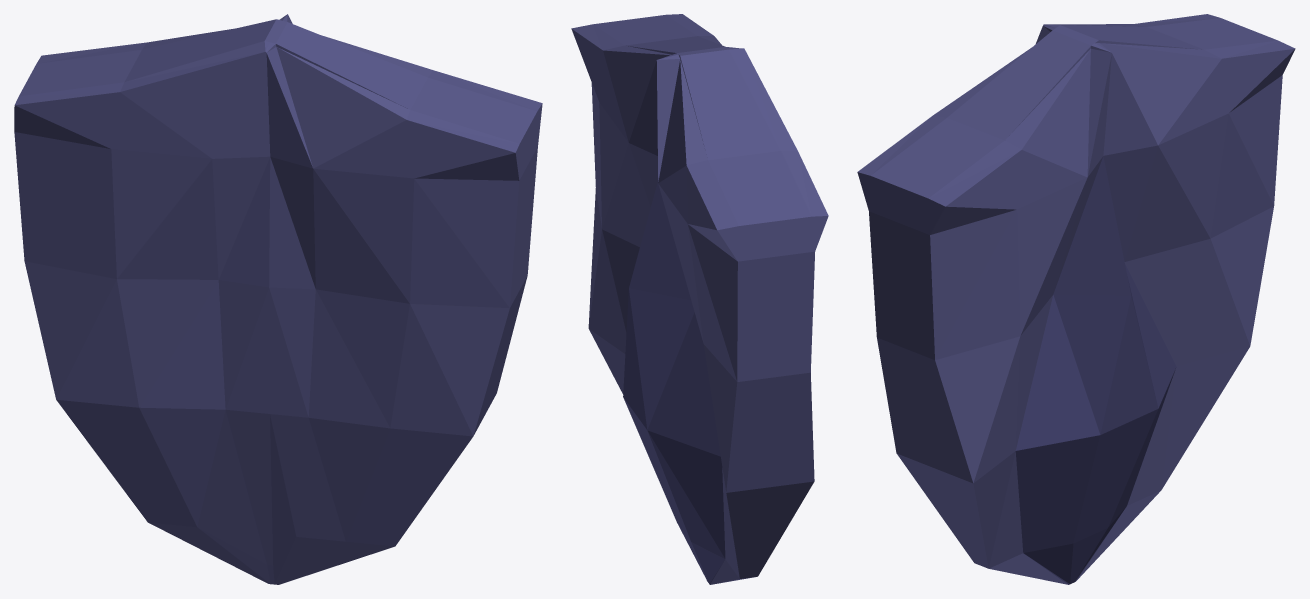
The model's file is Schild.fbx.
The picture shows the model from 3 angles, left to right: view 1: azimuth 30°, elevation 25°; view 2: azimuth 150°, elevation 25°; view 3: azimuth 270°, elevation 25°; orthographic projection. The views are drawn at different scales.
Visible parts, largest first — view 1: pCube1; view 2: pCube1; view 3: pCube1.
Boxes of the visible parts, <box> form: pCube1: <box>14,14,542,584</box>; pCube1: <box>571,14,828,584</box>; pCube1: <box>857,14,1295,584</box>.
Size of the model in its own units: 5.2 by 6.89 by 4.97.
